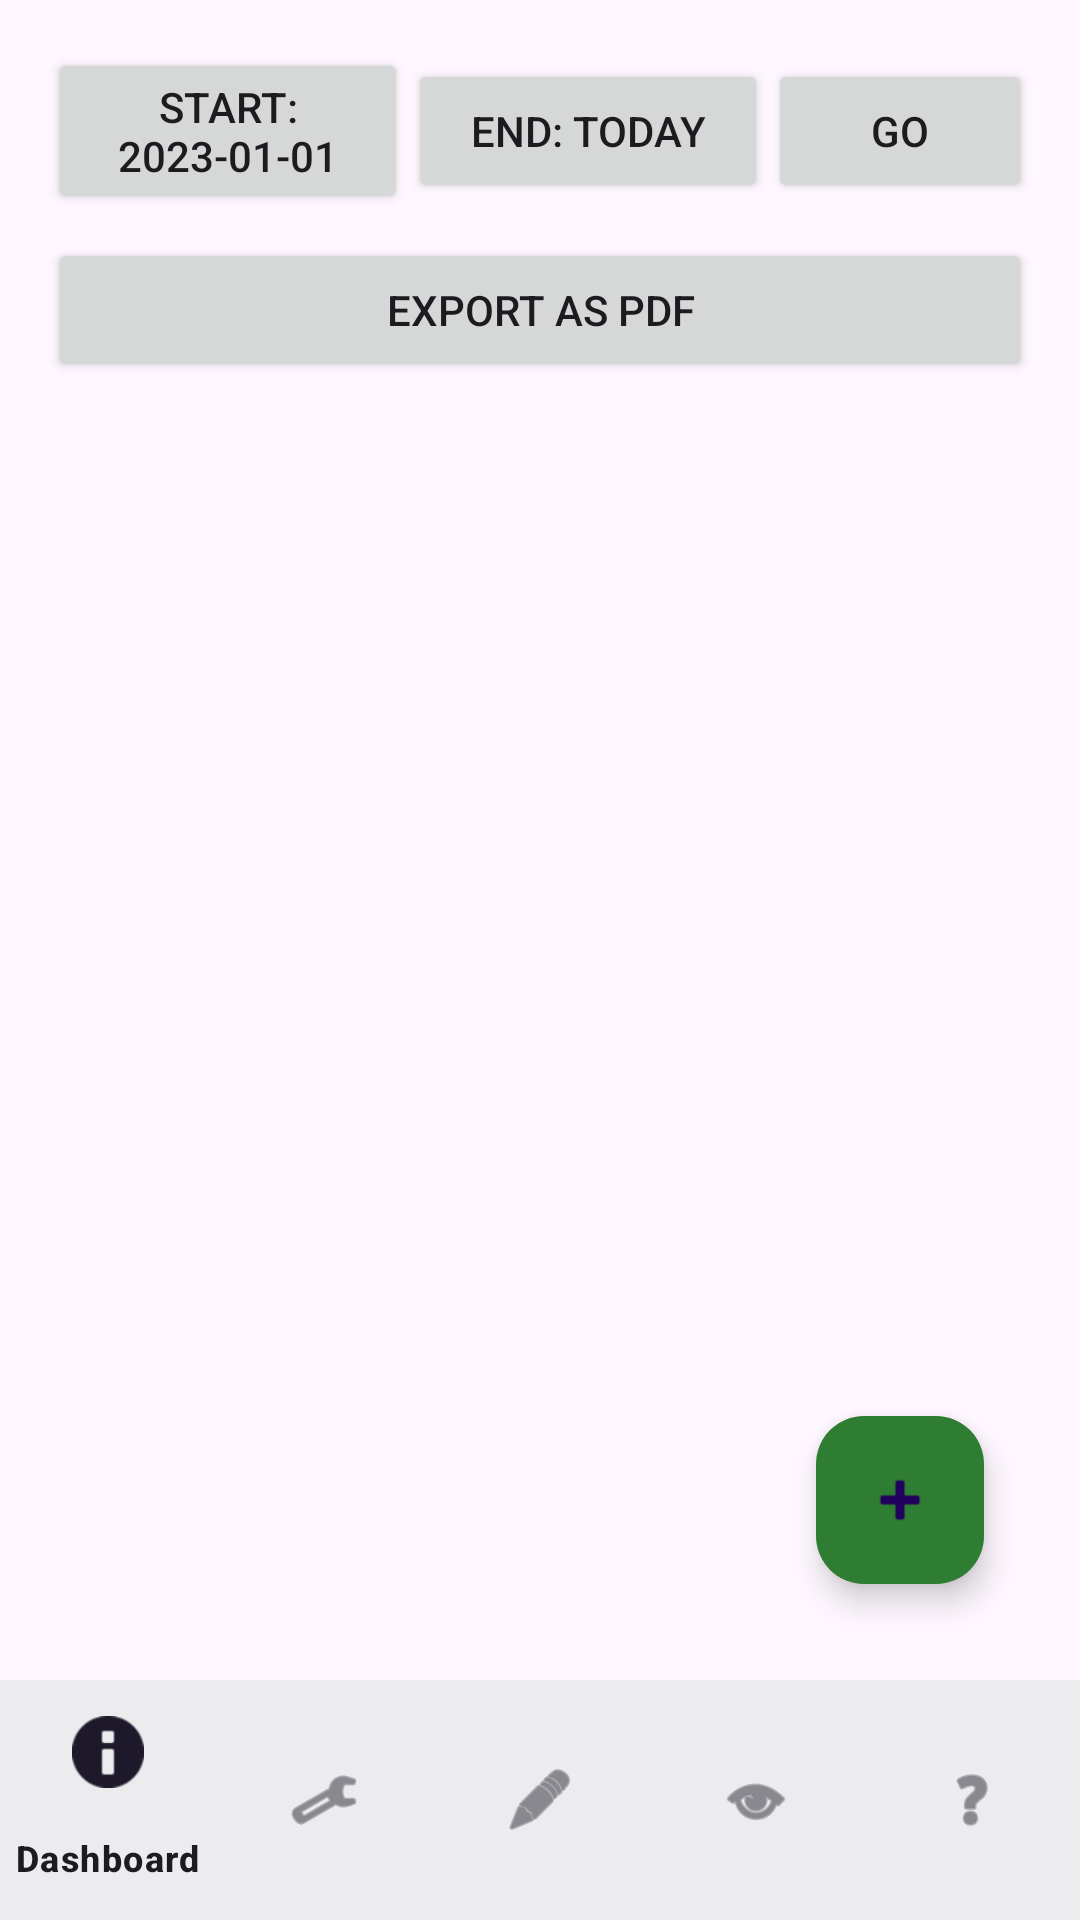

Screen size 1080px x 1920px. Icon name, then its box in pixels as (x1,y1,x2,y2):
Add expense: (816,1416,984,1584)
